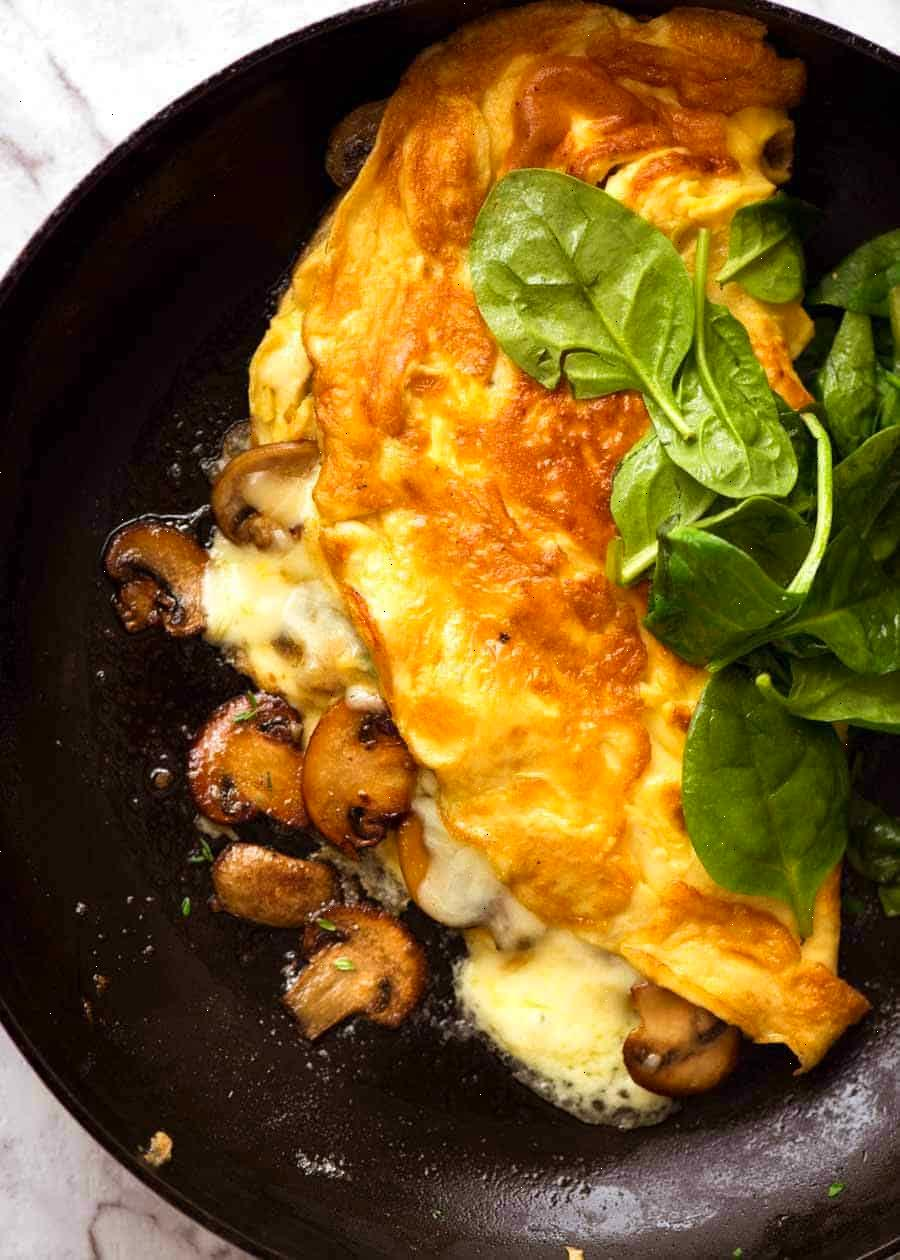omelette: (238, 18, 879, 1084)
